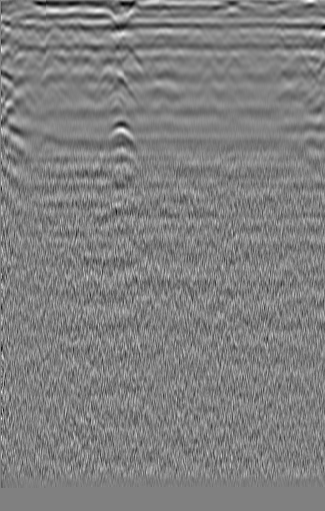가스: (102, 148, 141, 190)
상수: (5, 20, 37, 51)
오수: (284, 25, 319, 61)
우수: (146, 28, 176, 55)
